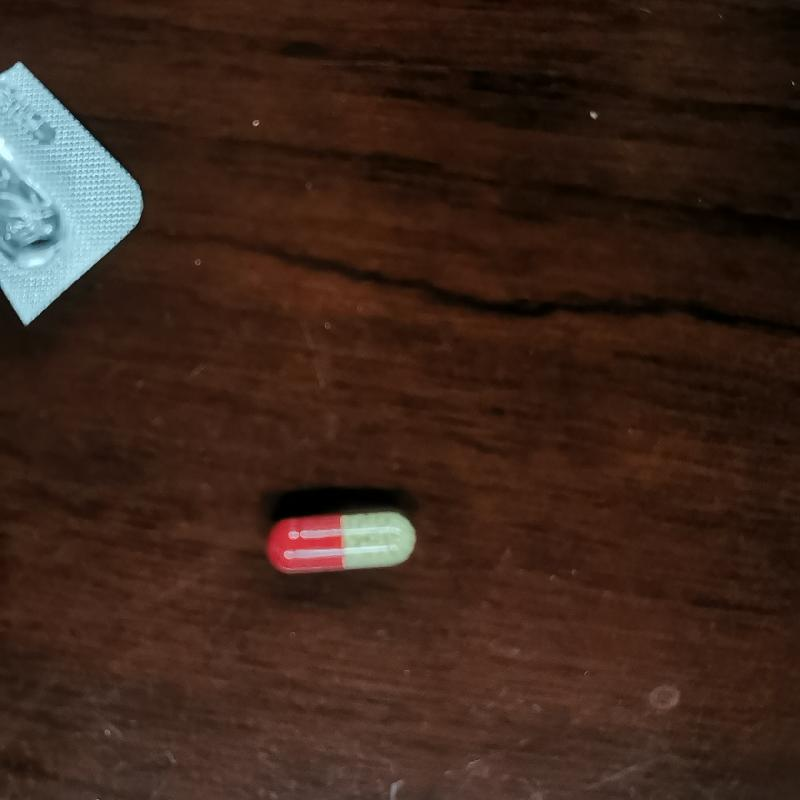pills: (260, 501, 423, 583)
